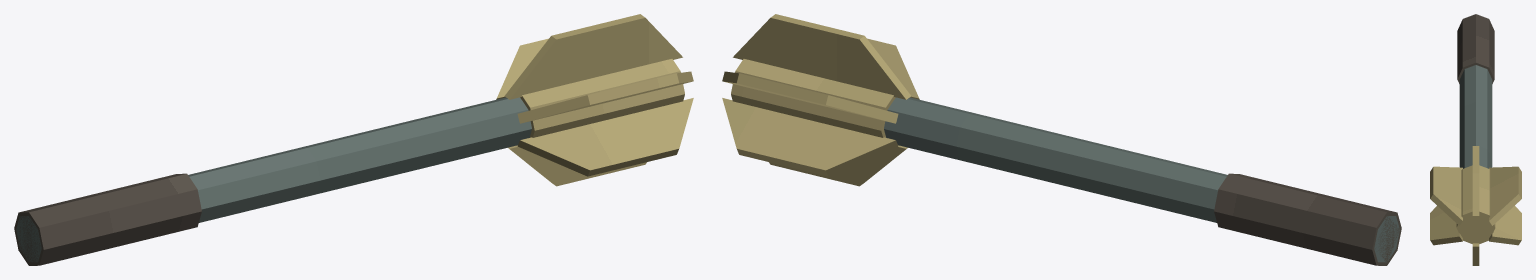
Rendered from weapon-mace.glb.
The picture shows the model from 3 angles, left to right: view 1: azimuth 30°, elevation 25°; view 2: azimuth 150°, elevation 25°; view 3: azimuth 270°, elevation 25°; orthographic projection. The views are drawn at different scales.
Visible parts, largest first — view 1: weapon-mace/eight-sided-long-shaft, weapon-mace/wrapped-mace-handle, weapon-mace/radial-metal-vane-3, weapon-mace/radial-metal-vane-5, weapon-mace/mace-head-core, weapon-mace/radial-metal-vane-4, weapon-mace/radial-metal-vane-0, weapon-mace/radial-metal-vane-2; view 2: weapon-mace/eight-sided-long-shaft, weapon-mace/wrapped-mace-handle, weapon-mace/radial-metal-vane-3, weapon-mace/radial-metal-vane-1, weapon-mace/mace-head-core, weapon-mace/radial-metal-vane-2, weapon-mace/radial-metal-vane-0, weapon-mace/radial-metal-vane-4; view 3: weapon-mace/eight-sided-long-shaft, weapon-mace/mace-head-core, weapon-mace/wrapped-mace-handle, weapon-mace/radial-metal-vane-2, weapon-mace/radial-metal-vane-4, weapon-mace/radial-metal-vane-1, weapon-mace/radial-metal-vane-5, weapon-mace/radial-metal-vane-3, weapon-mace/radial-metal-vane-0.
Boxes of the visible parts, bbox=[...] form: weapon-mace/eight-sided-long-shaft: bbox=[16, 97, 531, 262]; weapon-mace/wrapped-mace-handle: bbox=[14, 173, 201, 265]; weapon-mace/radial-metal-vane-3: bbox=[504, 14, 682, 99]; weapon-mace/radial-metal-vane-5: bbox=[517, 98, 693, 176]; weapon-mace/mace-head-core: bbox=[520, 59, 684, 137]; weapon-mace/radial-metal-vane-4: bbox=[517, 71, 693, 123]; weapon-mace/radial-metal-vane-0: bbox=[508, 145, 646, 186]; weapon-mace/radial-metal-vane-2: bbox=[496, 38, 548, 99]; weapon-mace/eight-sided-long-shaft: bbox=[884, 97, 1399, 262]; weapon-mace/wrapped-mace-handle: bbox=[1214, 173, 1401, 265]; weapon-mace/radial-metal-vane-3: bbox=[733, 14, 911, 99]; weapon-mace/radial-metal-vane-1: bbox=[722, 98, 898, 176]; weapon-mace/mace-head-core: bbox=[731, 59, 895, 137]; weapon-mace/radial-metal-vane-2: bbox=[722, 71, 898, 123]; weapon-mace/radial-metal-vane-0: bbox=[769, 145, 907, 186]; weapon-mace/radial-metal-vane-4: bbox=[867, 38, 919, 99]; weapon-mace/eight-sided-long-shaft: bbox=[1459, 65, 1492, 168]; weapon-mace/mace-head-core: bbox=[1456, 165, 1495, 243]; weapon-mace/wrapped-mace-handle: bbox=[1457, 14, 1494, 83]; weapon-mace/radial-metal-vane-2: bbox=[1489, 166, 1521, 225]; weapon-mace/radial-metal-vane-4: bbox=[1430, 166, 1462, 225]; weapon-mace/radial-metal-vane-1: bbox=[1489, 206, 1521, 245]; weapon-mace/radial-metal-vane-5: bbox=[1430, 206, 1462, 245]; weapon-mace/radial-metal-vane-3: bbox=[1472, 146, 1479, 215]; weapon-mace/radial-metal-vane-0: bbox=[1472, 243, 1479, 265].
Size of the model in its own units: 0.585 by 0.126 by 0.1131.
Materials: 3 (3 with a texture image).
